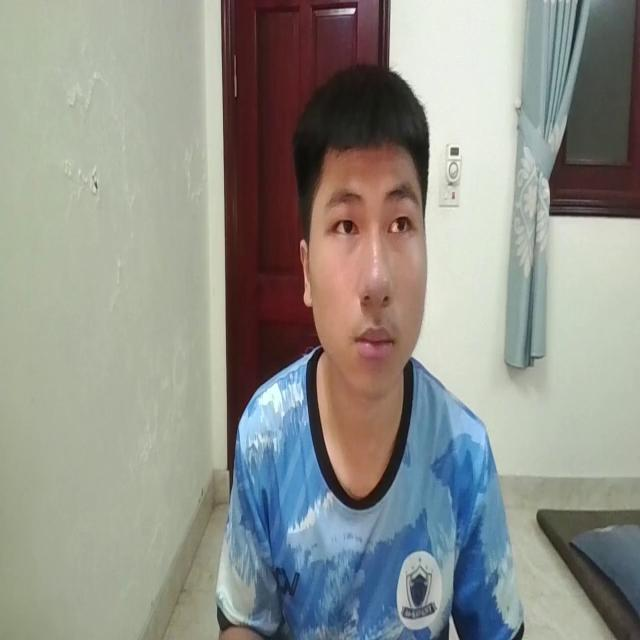student: (218, 49, 526, 640)
